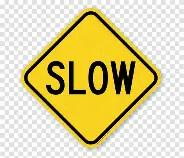Slow: (26, 11, 153, 141)
